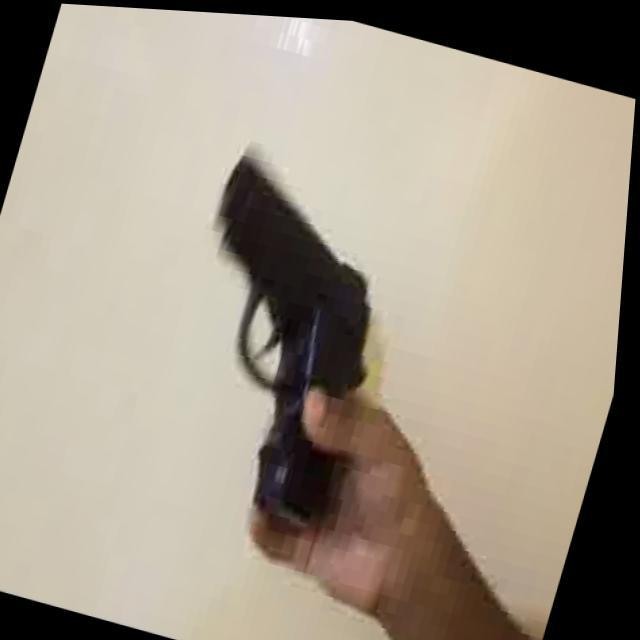weapon: (107, 135, 632, 640)
